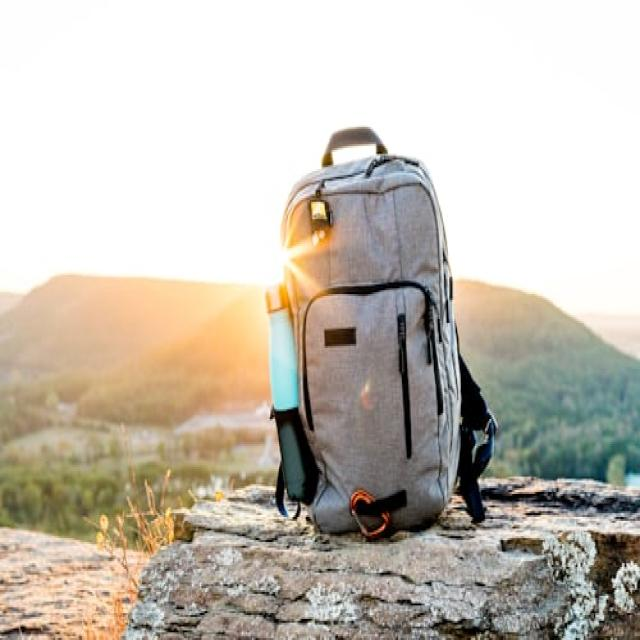backpack: (265, 126, 498, 539)
